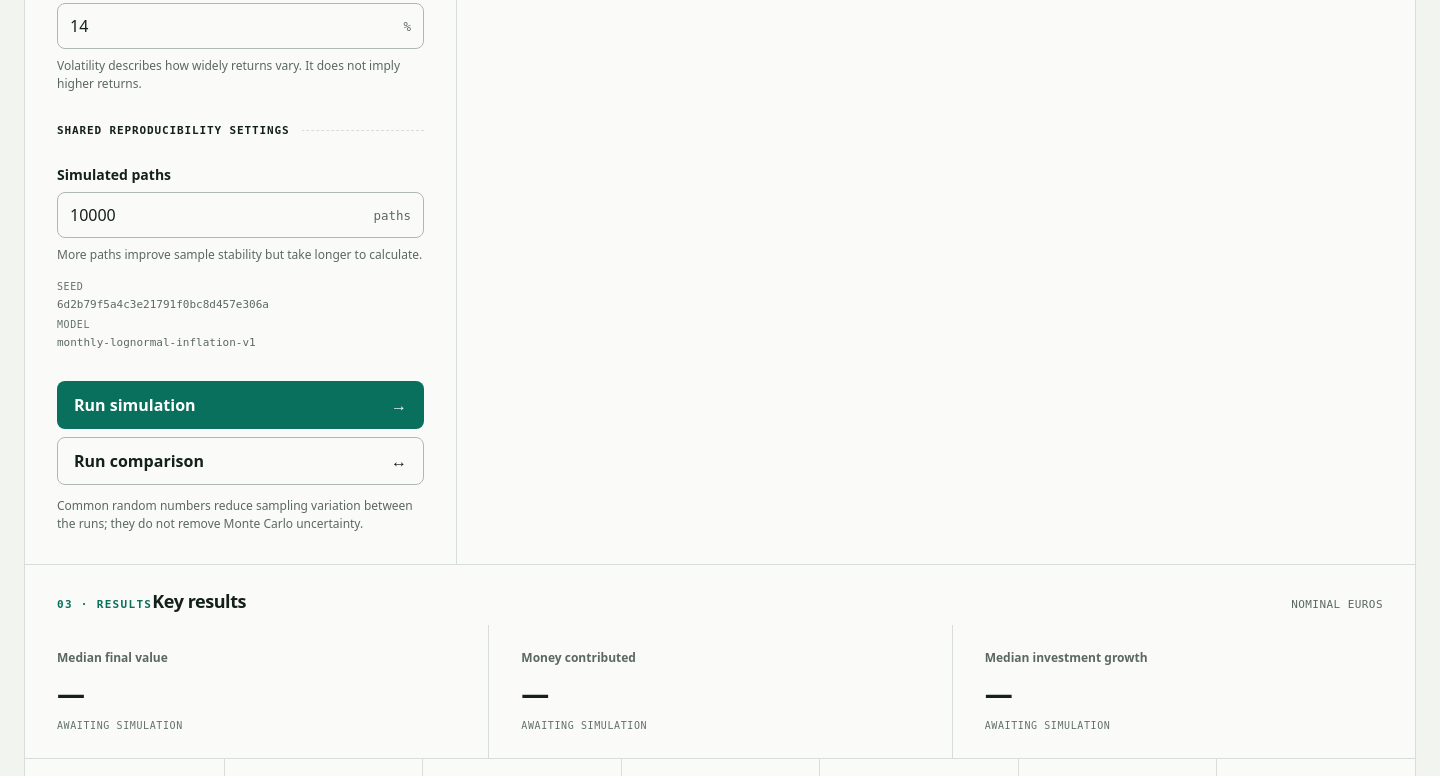
Test: MarketSim simulation workspace › surfaces a structured Worker error as an accessible alert
(page scrolled)
Click the button "Run simulation →" at point(135, 405), box [57,382,424,430]
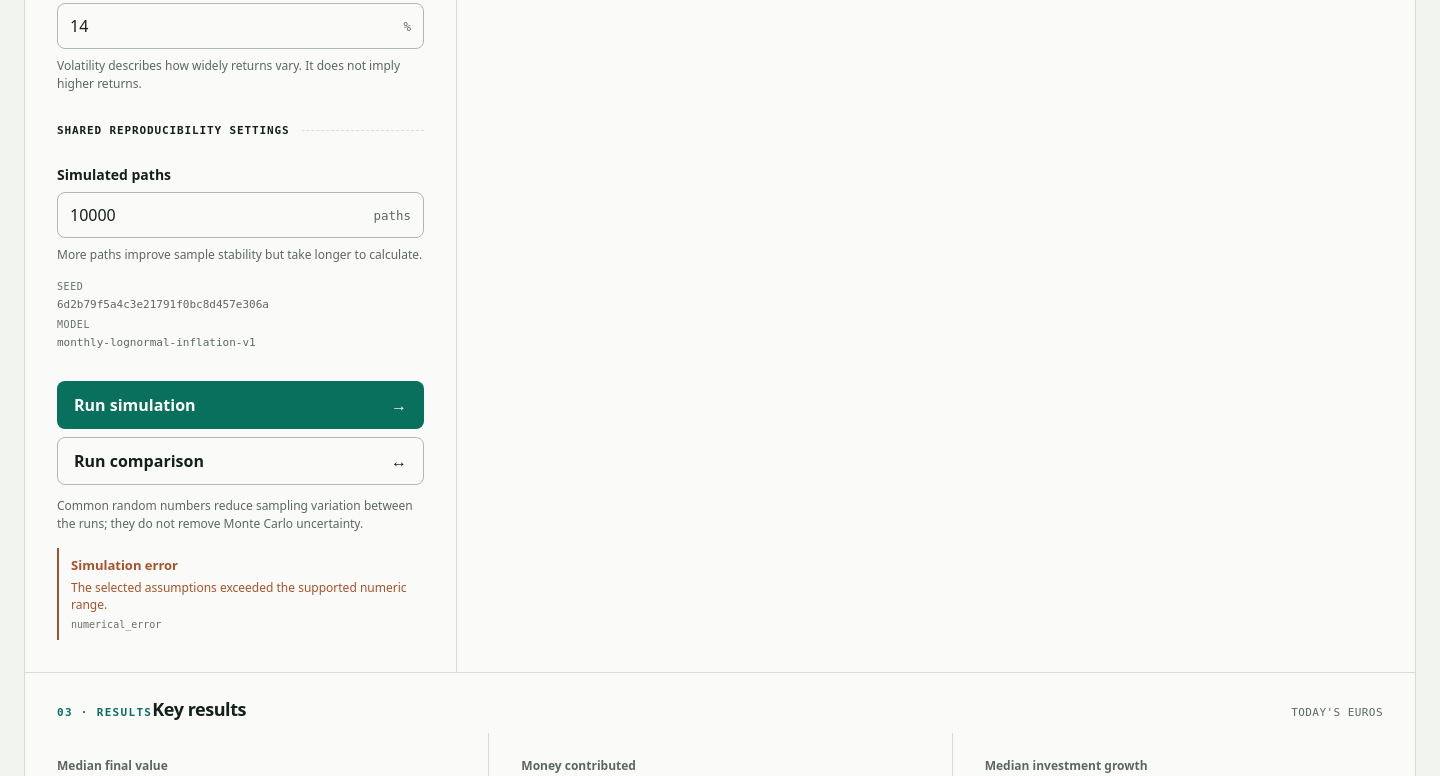
Expected: the message does not show "pathIndex", [57,548,424,640]
Now the message shows "numeric range", box [71,579,406,614]
Now the message shows "numerical_error", box [71,619,161,630]
